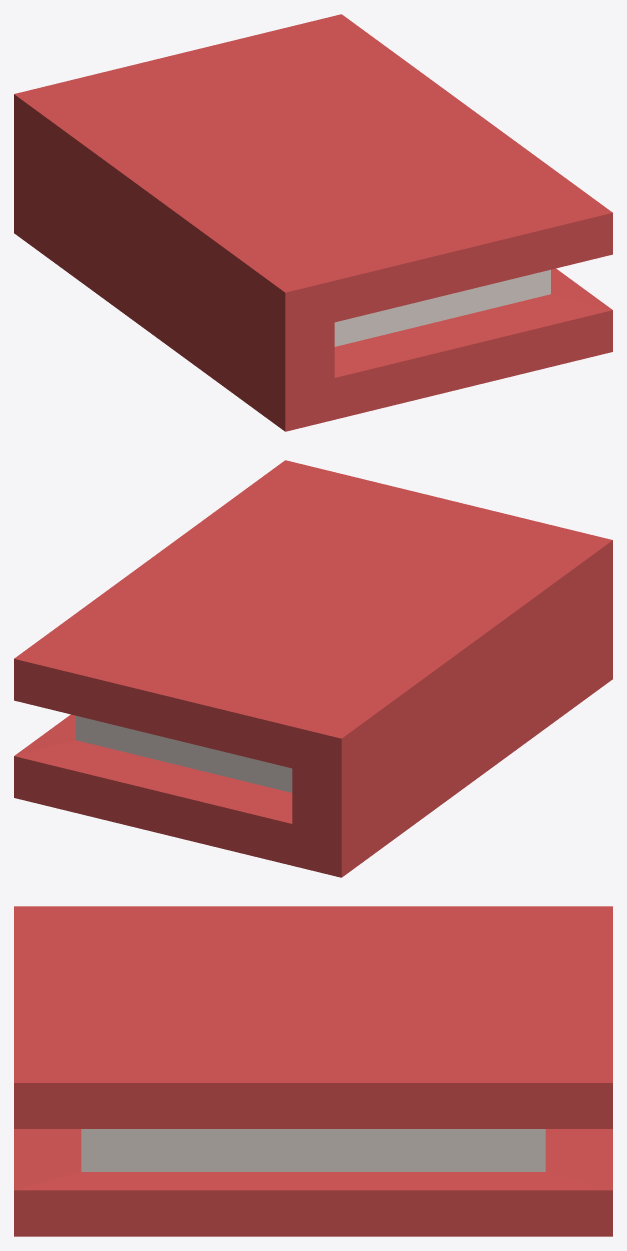
File: Book 01 Red.FBX
3 renders of one model, top to bottom at view 1: azimuth 30°, elevation 25°; view 2: azimuth 150°, elevation 25°; view 3: azimuth 270°, elevation 25°, orthographic. The views are drawn at different scales.
Visible parts, largest first — view 1: Book 01 Red; view 2: Book 01 Red; view 3: Book 01 Red.
Part boxes in pixels (x1,y1,x2,y2): Book 01 Red: (14,14,612,431); Book 01 Red: (14,460,612,877); Book 01 Red: (14,906,612,1236).
Size of the model in its own units: 38.56 by 15.65 by 55.32.
